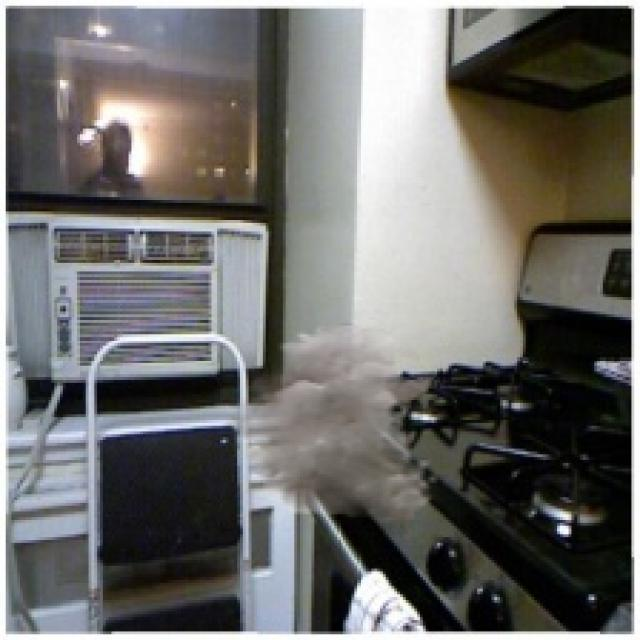Smoke: (220, 323, 440, 526)
